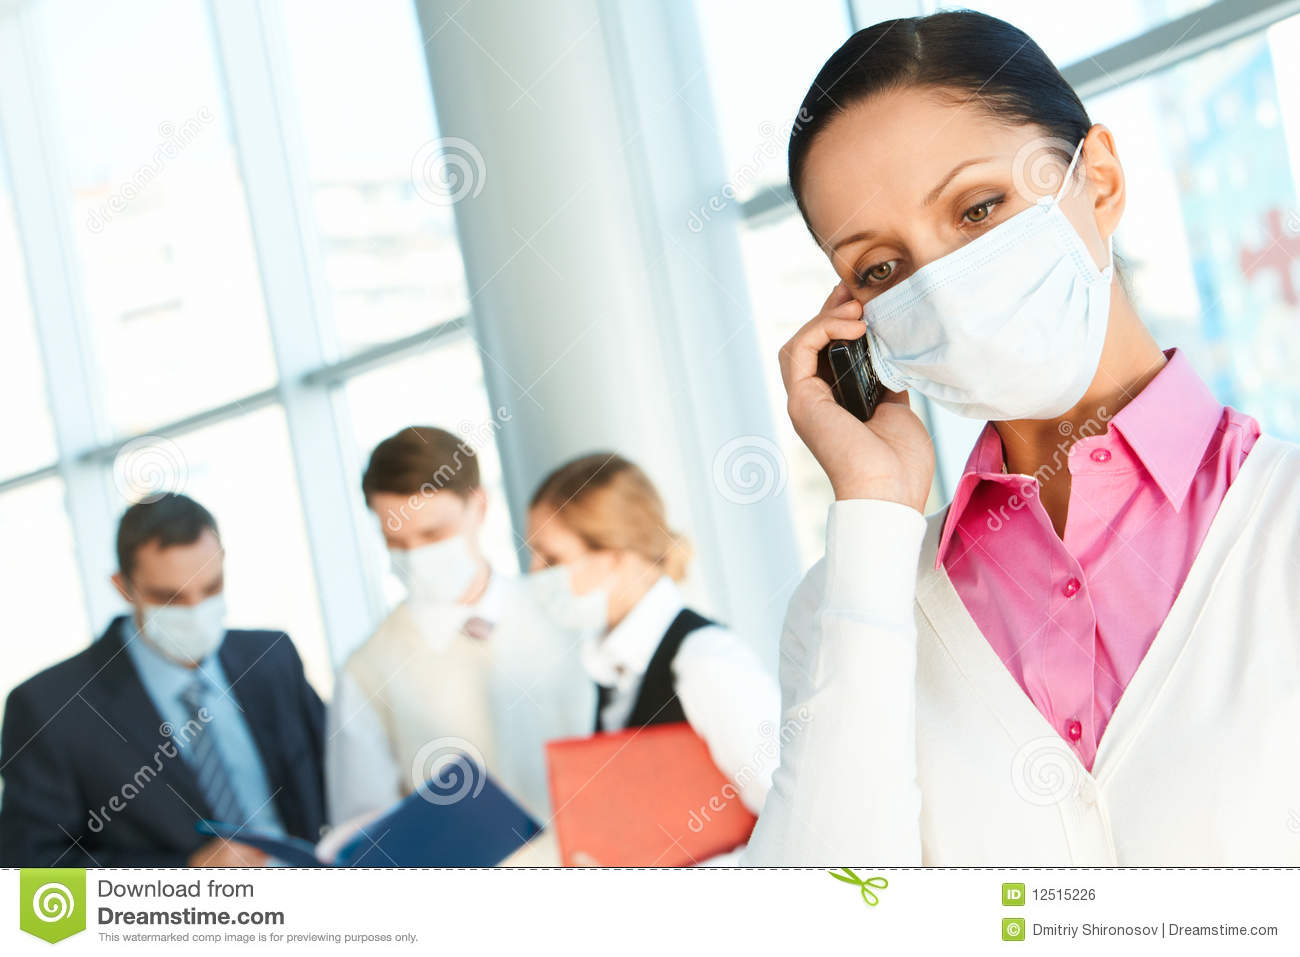mask: (863, 209, 1112, 426)
